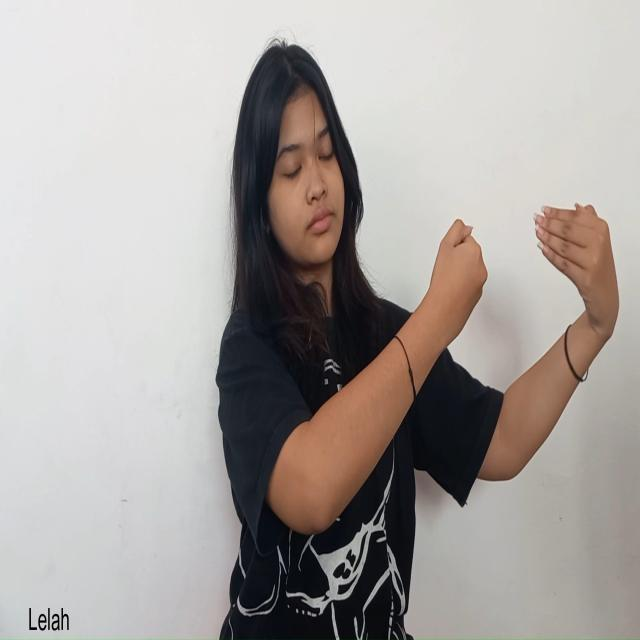Lelah -BISINDO-: (430, 198, 622, 352)
